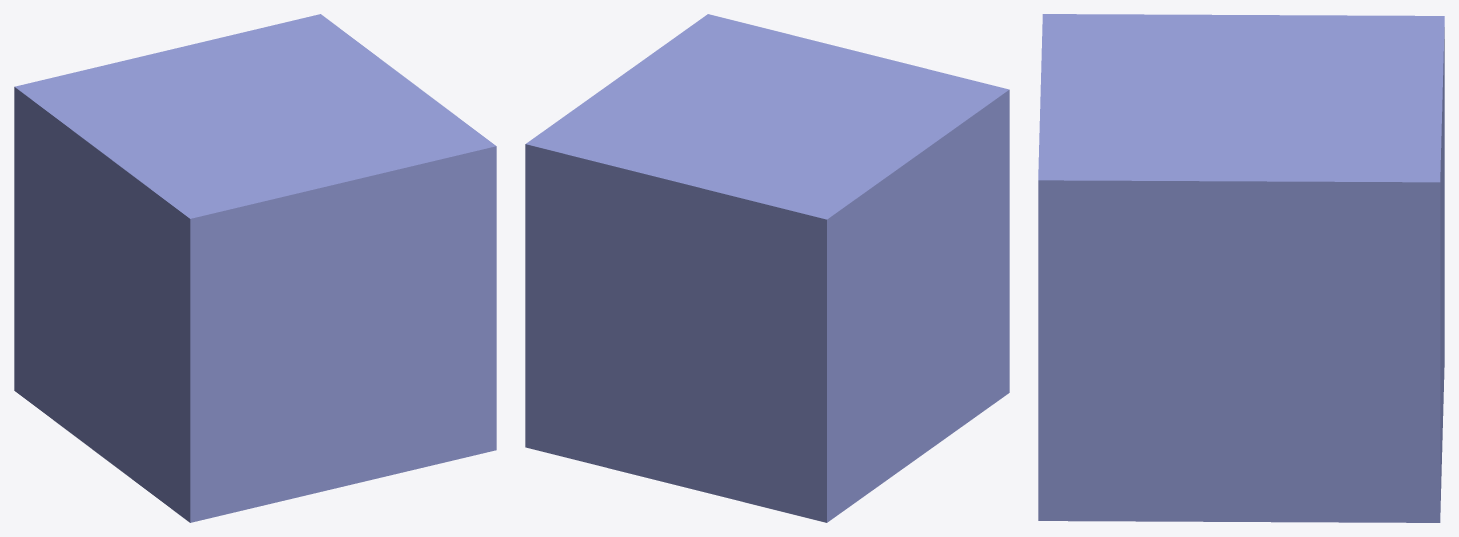
Rendered from whitecube.dae.
3 renders of one model, left to right at view 1: azimuth 30°, elevation 25°; view 2: azimuth 150°, elevation 25°; view 3: azimuth 270°, elevation 25°, orthographic. The views are drawn at different scales.
Parts seen in each view (by area): view 1: node0; view 2: node0; view 3: node0.
Part boxes in pixels (left/top/right/bottom): node0: left=14, top=14, right=496, bottom=522; node0: left=525, top=14, right=1009, bottom=522; node0: left=1038, top=14, right=1444, bottom=522.
Bounding box in the file's own units: 0.3709 × 0.3786 × 0.35.
